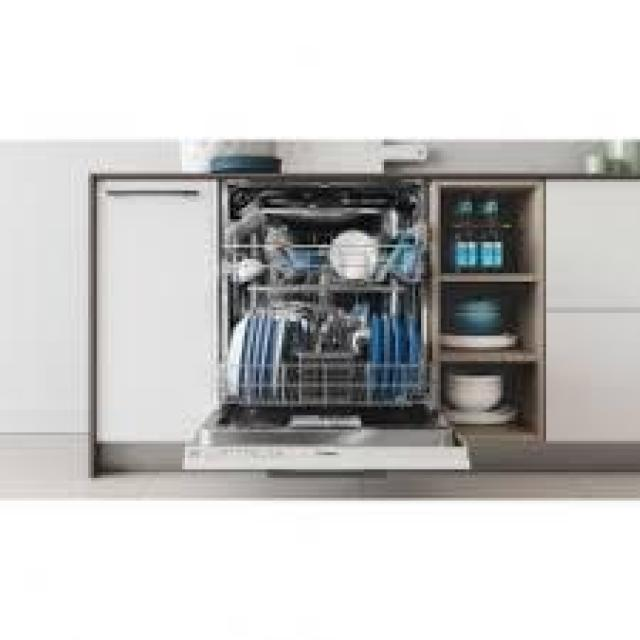dishwasher: (176, 165, 481, 481)
